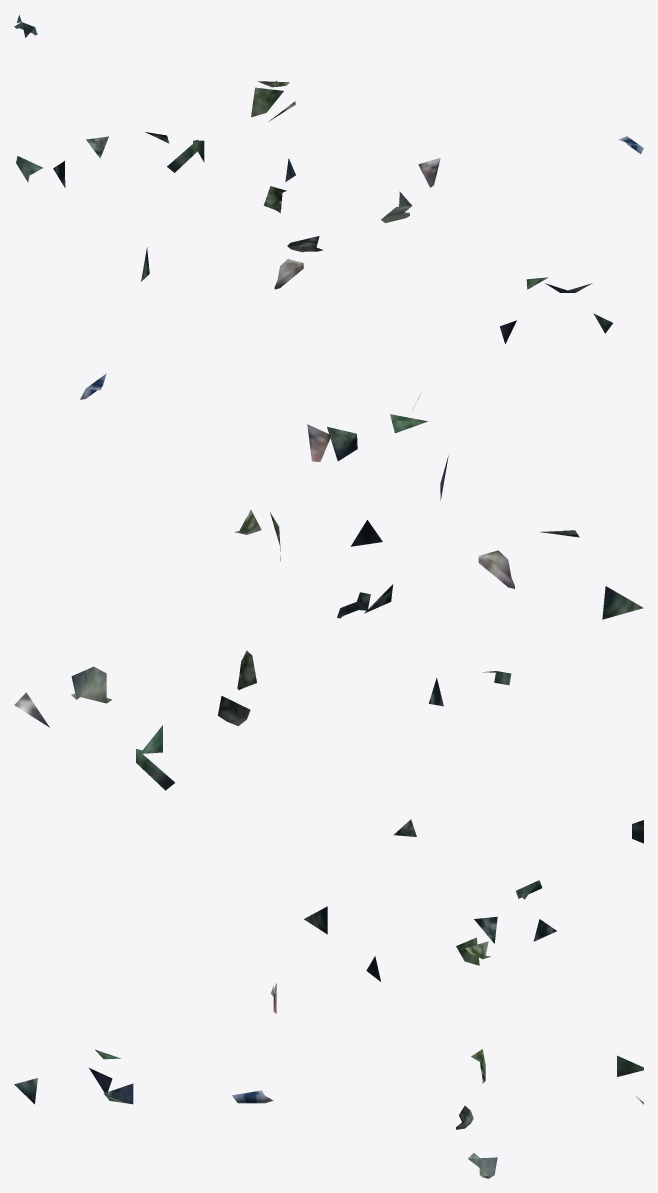
The picture shows the model from 3 angles, top to bottom: view 1: azimuth 30°, elevation 25°; view 2: azimuth 150°, elevation 25°; view 3: azimuth 270°, elevation 25°; orthographic projection. The views are drawn at different scales.
Visible parts, largest first — view 1: 30436272704361606426_1; view 2: 30436272704361606426_1; view 3: 30436272704361606426_1.
Part boxes in pixels (x1=…): 30436272704361606426_1: x1=14, y1=15, x2=643, y2=343; 30436272704361606426_1: x1=14, y1=373, x2=643, y2=790; 30436272704361606426_1: x1=14, y1=819, x2=643, y2=1178.
Size of the model in its own units: 27.31 by 12.02 by 32.55.
Materials: 1 (1 with a texture image).
